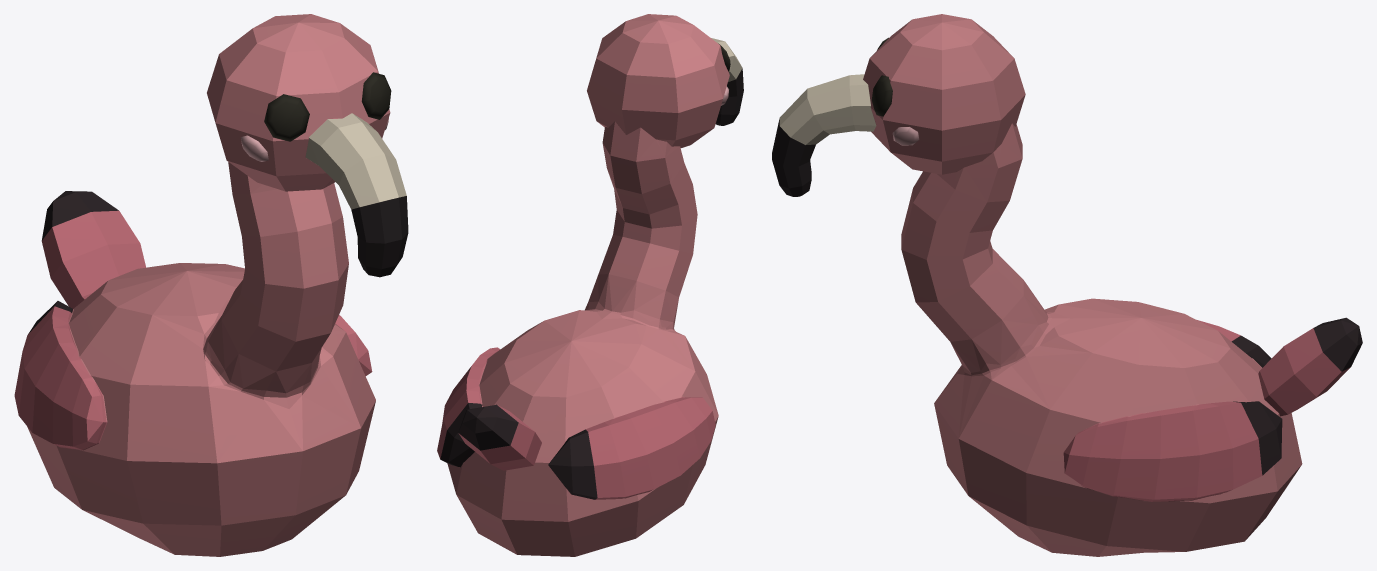
Rendered from Flamingo.glb.
The picture shows the model from 3 angles, left to right: view 1: azimuth 30°, elevation 25°; view 2: azimuth 150°, elevation 25°; view 3: azimuth 270°, elevation 25°; orthographic projection. The views are drawn at different scales.
Visible parts, largest first — view 1: Hunt_Flamingo; view 2: Hunt_Flamingo; view 3: Hunt_Flamingo.
Part boxes in pixels (box(x1,y1,x2,y2)): Hunt_Flamingo: box(14, 14, 408, 556); Hunt_Flamingo: box(437, 14, 743, 556); Hunt_Flamingo: box(772, 14, 1362, 556).
Bounding box in the file's own units: 0.2812 × 0.504 × 0.5365.
